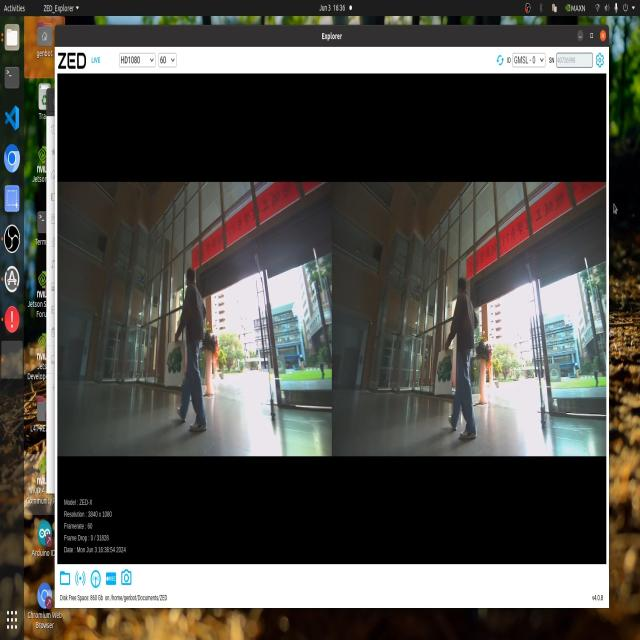green: (434, 352, 452, 389), (168, 340, 182, 372)
